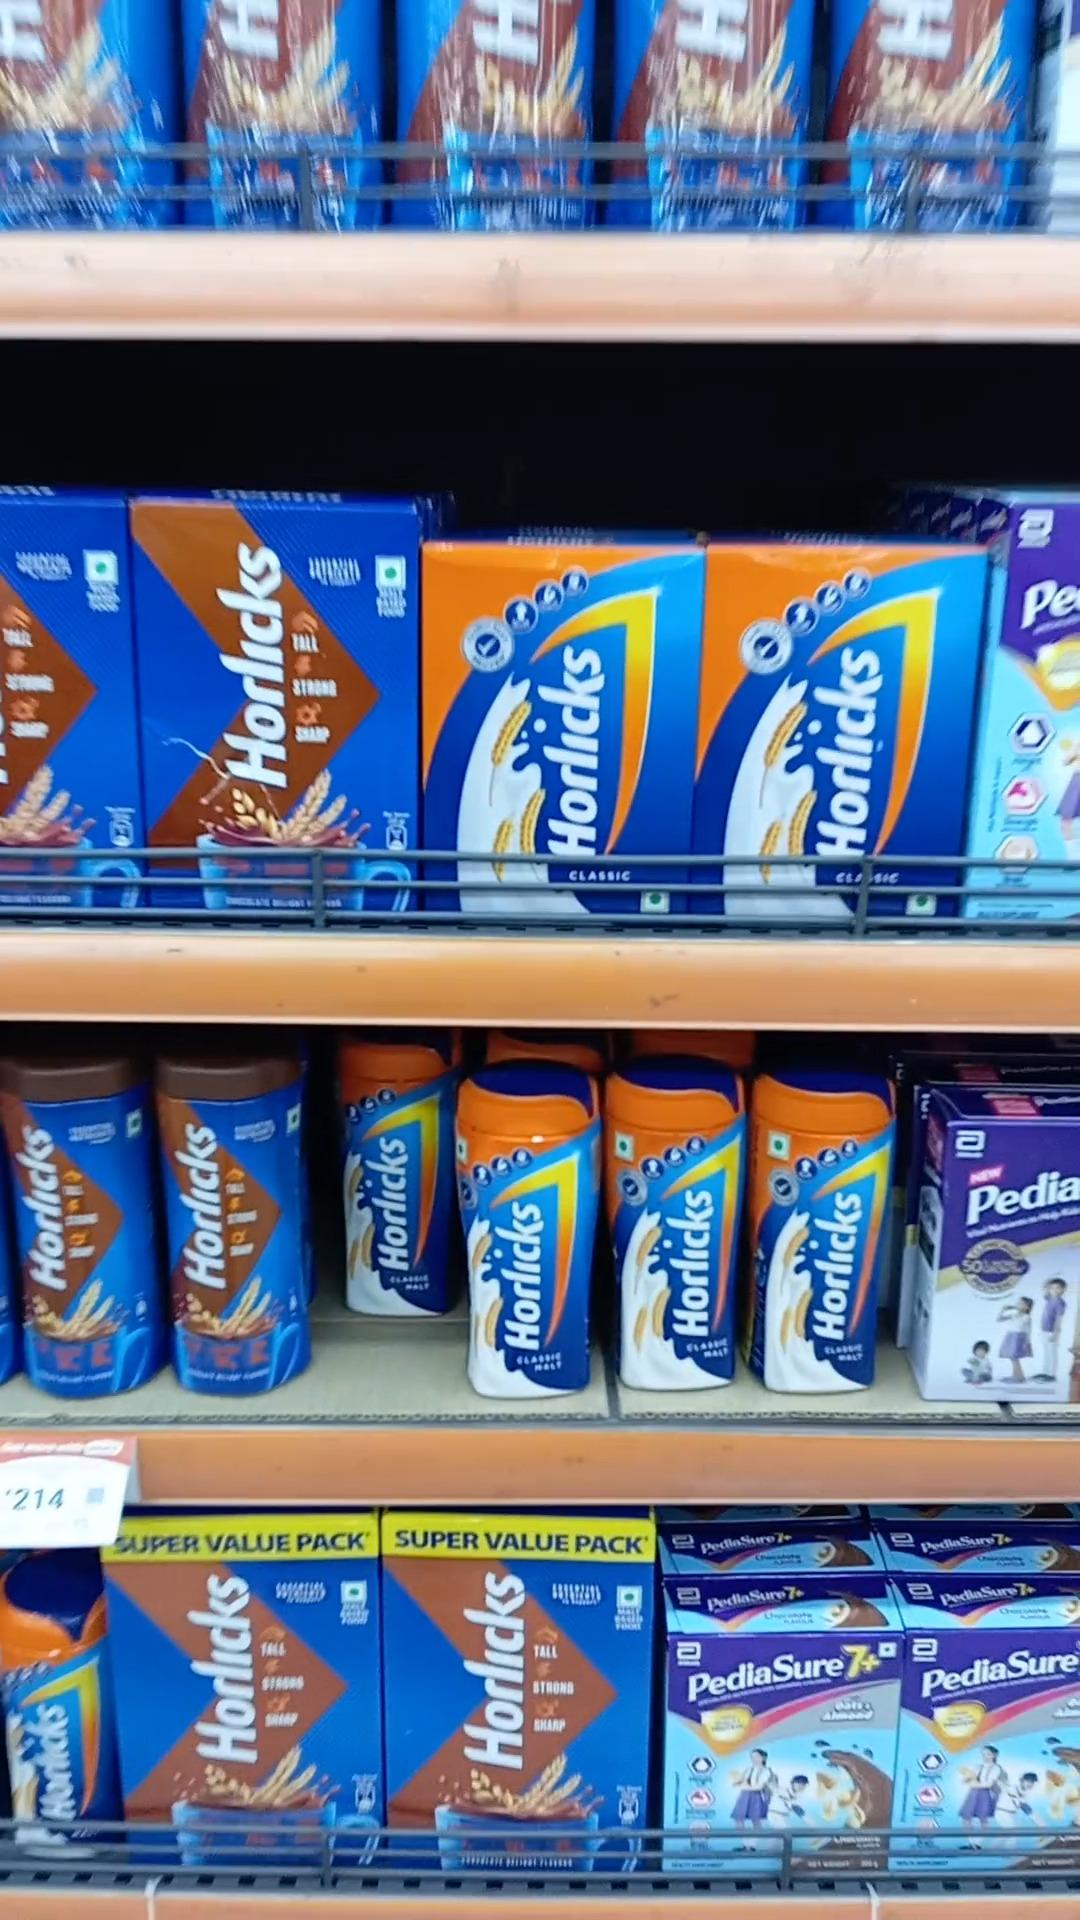HORLICK_CHOCOLATE_1_KG_PACK: (385, 1513, 650, 1871), (123, 1523, 378, 1863)
HORLICK_CHOCOLATE_500_G_JAR: (7, 1055, 161, 1389), (170, 1058, 311, 1387)
HORLICK_CHOCOLATE_500_G_PACK: (137, 498, 415, 919)
HORLICK_CLASSIC_MALT_500_G_JAR: (463, 1056, 601, 1394), (749, 1065, 885, 1394), (613, 1059, 736, 1390), (0, 1567, 109, 1869), (342, 1031, 448, 1316)
HORLICK_CLASSIC_MALT_500_G_PACK: (422, 546, 692, 919), (705, 545, 963, 926)
PEDIASURE_7_PLUS_CHOCOLATE_400_G_PACK: (669, 1638, 894, 1876), (901, 1626, 1080, 1880)
